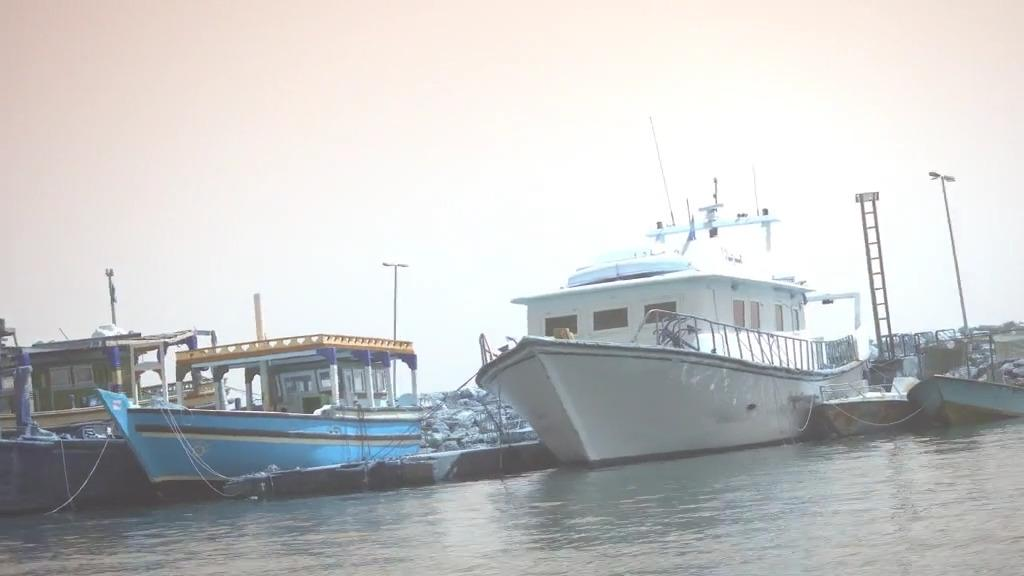PassengerShip: (462, 227, 874, 478), (90, 312, 432, 509)
